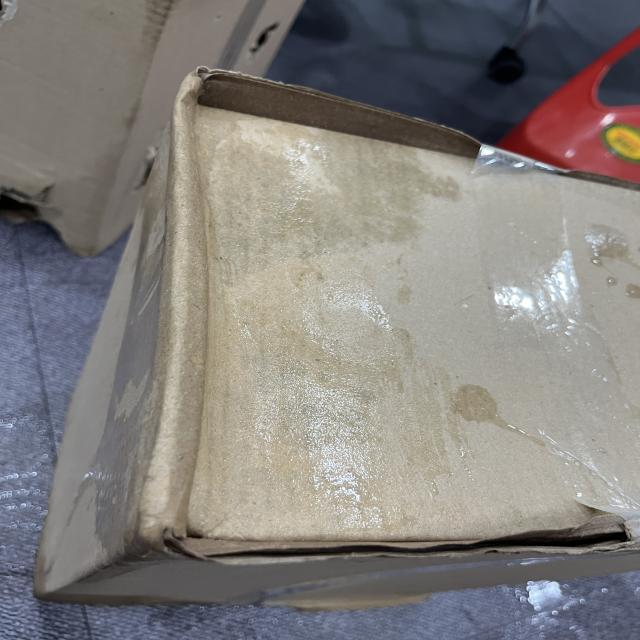wet: (110, 109, 550, 585)
